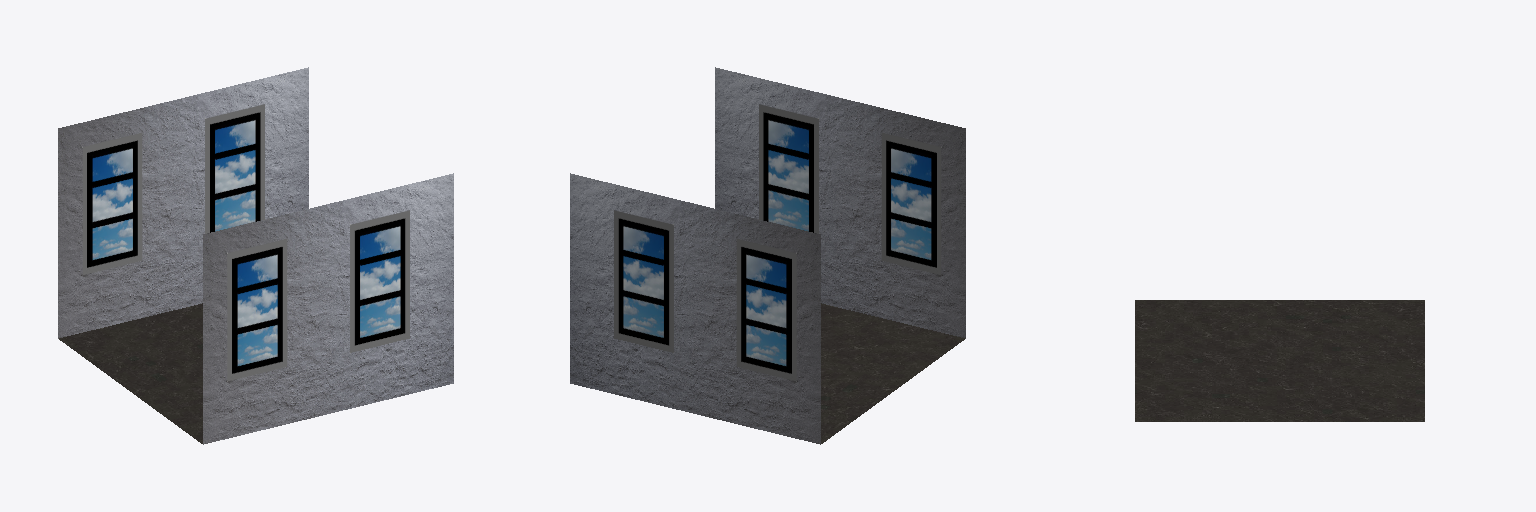
The picture shows the model from 3 angles: view 1: azimuth 30°, elevation 25°; view 2: azimuth 150°, elevation 25°; view 3: azimuth 270°, elevation 25°; orthographic projection.
Parts seen in each view (by area): view 1: Wall1_Plane, Wall2_Plane.001, Floor_Plane.002; view 2: Wall2_Plane.001, Wall1_Plane, Floor_Plane.002; view 3: Floor_Plane.002.
Part boxes in pixels (x1,y1,x2,y2): Wall1_Plane: (203, 173, 453, 444); Wall2_Plane.001: (58, 67, 308, 338); Floor_Plane.002: (59, 303, 202, 443); Wall2_Plane.001: (570, 173, 820, 444); Wall1_Plane: (715, 67, 965, 338); Floor_Plane.002: (821, 303, 964, 443); Floor_Plane.002: (1135, 300, 1424, 421).
Size of the model in its own units: 2 by 1.6 by 2.
Materials: 3 (2 with a texture image).